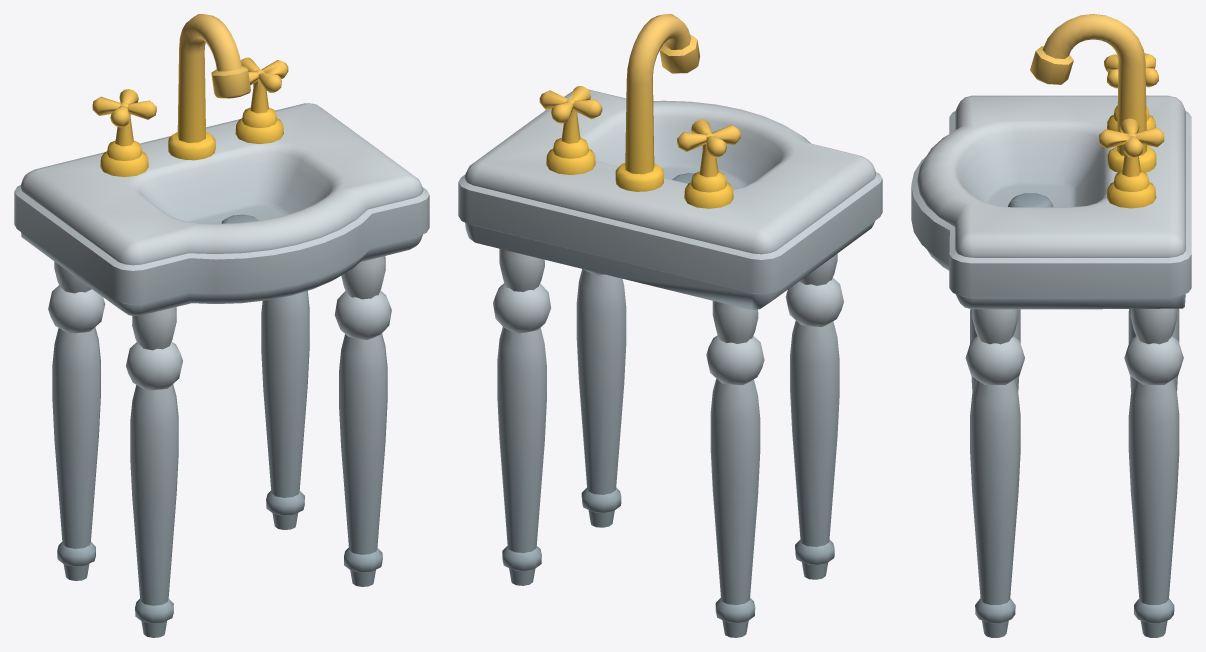
File: Wash_Basin_06.glb
The picture shows the model from 3 angles, left to right: view 1: azimuth 30°, elevation 25°; view 2: azimuth 150°, elevation 25°; view 3: azimuth 270°, elevation 25°; orthographic projection. The views are drawn at different scales.
Parts seen in each view (by area): view 1: Wash_Basin_06; view 2: Wash_Basin_06; view 3: Wash_Basin_06.
Part boxes in pixels (<box>): Wash_Basin_06: <box>14,14,429,637</box>; Wash_Basin_06: <box>458,14,882,637</box>; Wash_Basin_06: <box>911,14,1191,637</box>.
Bounding box in the file's own units: 0.687 × 1.16 × 0.5219.
Materials: 1 (1 with a texture image).
